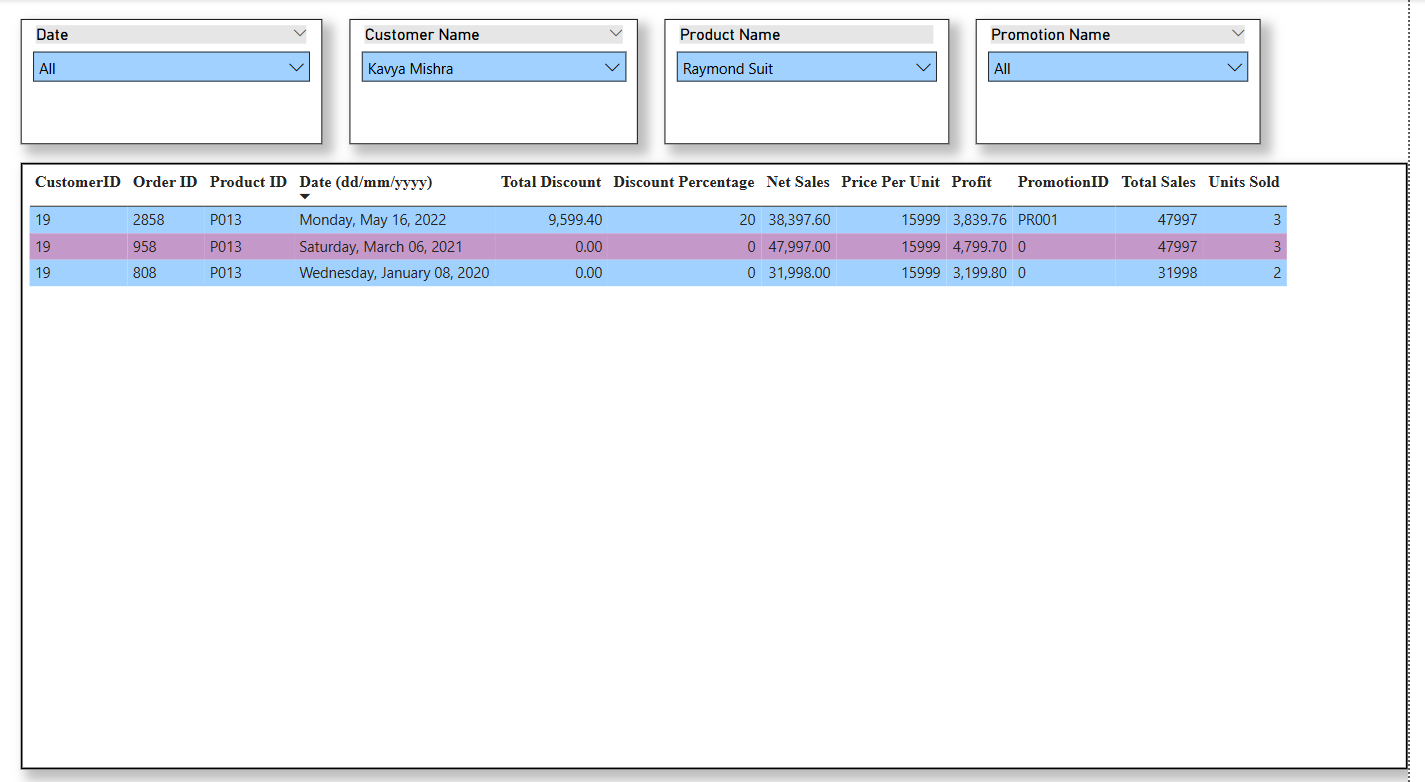

Layout of this report page (visuals, bound fields, positions):
{"tool":"powerbi","page":{"name":"table_visual","canvas":[1280,720],"ordinal":5},"visuals":[{"type":"tableEx","fields":{"Values":["Fact Table.CustomerID","Fact Table.Order ID","Fact Table.Product ID","Fact Table.Date (dd/mm/yyyy)","Fact Table.Discount","Fact Table.Discount Percentage","Fact Table.Net Sales  ","Fact Table.Price Per Unit","Fact Table.Profit","Fact Table.PromotionID","Fact Table.Total Sales ","Fact Table.Units Sold"]},"box":[22.1,148.8,1258.1,550],"z":0},{"type":"slicer","fields":{"Values":["Date Table 1.Date"]},"box":[22.1,18.6,273.3,114],"z":1000},{"type":"slicer","fields":{"Values":["Dim Customers.Customer Name"]},"box":[319.8,18.6,261.6,114],"z":2000},{"type":"slicer","fields":{"Values":["Dim Product.Product Name"]},"box":[605.8,18.6,258.1,114],"z":3000},{"type":"slicer","fields":{"Values":["Dim Promotion.Promotion Name"]},"box":[888.4,18.6,258.1,114],"z":4000}]}

Visuals, with their boxes in screenshot pixels (x1, y1, x2, y2), scaled from the page's 1280x720 canvas onto the 1425x782 screenshot:
tableEx - Fact Table.CustomerID x Fact Table.Order ID: 25/162/1424/759
slicer - Date Table 1.Date: 25/20/329/144
slicer - Dim Customers.Customer Name: 356/20/647/144
slicer - Dim Product.Product Name: 674/20/962/144
slicer - Dim Promotion.Promotion Name: 989/20/1276/144
